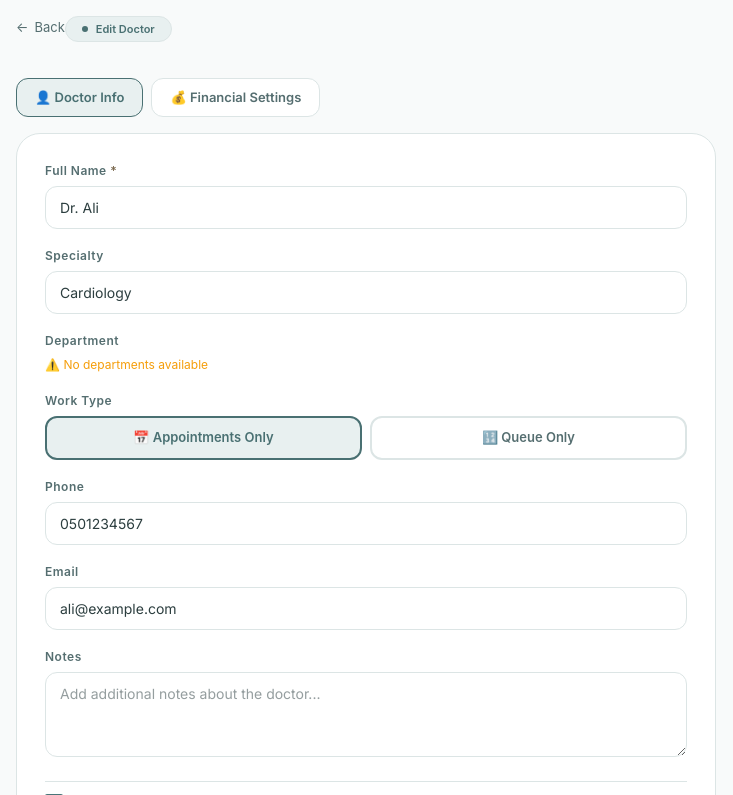
EditDoctor › saves the general financial settings
The image size is (733, 795).
Expected: the field showing "Dr. Ali" is shown, x1=45 y1=186 x2=687 y2=229
Click the button "💰 Financial Settings".
click(236, 97)  # box x1=151 y1=78 x2=320 y2=117
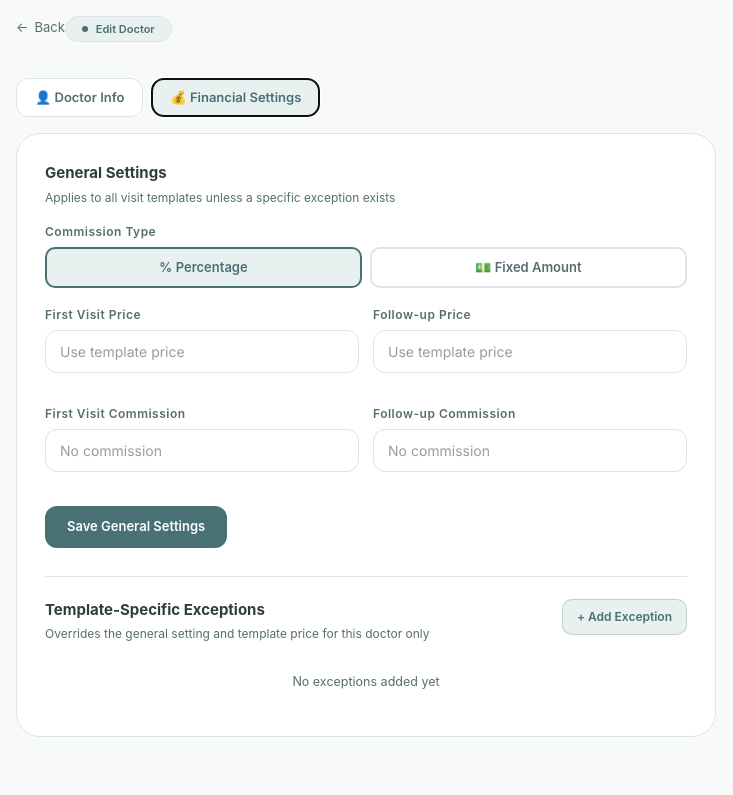
Result: the heading "General Settings" is shown at x1=45 y1=163 x2=167 y2=182
Type "40" into the number field with placeholder "Use template price".
click(202, 352); type("40")  # box x1=45 y1=330 x2=359 y2=373
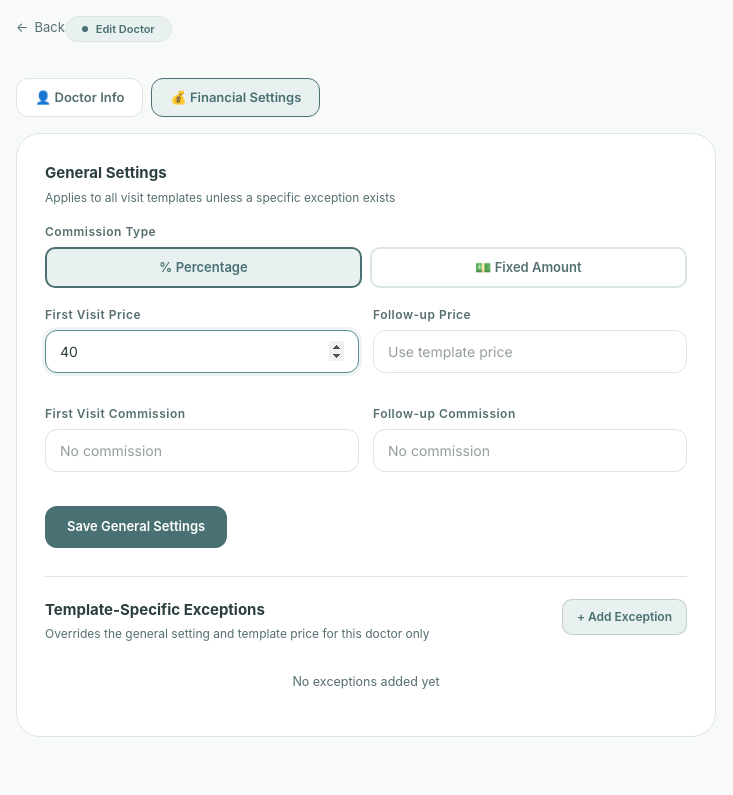
Click the button "Save General Settings".
click(136, 527)  # box x1=45 y1=506 x2=227 y2=548
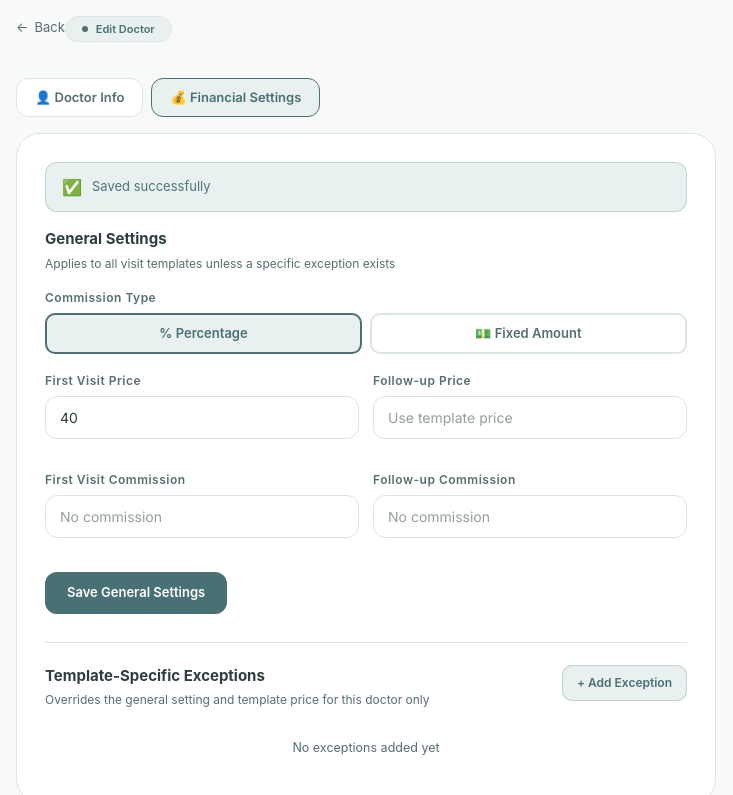
Result: the text "Saved successfully" is shown at x1=92 y1=177 x2=211 y2=197
